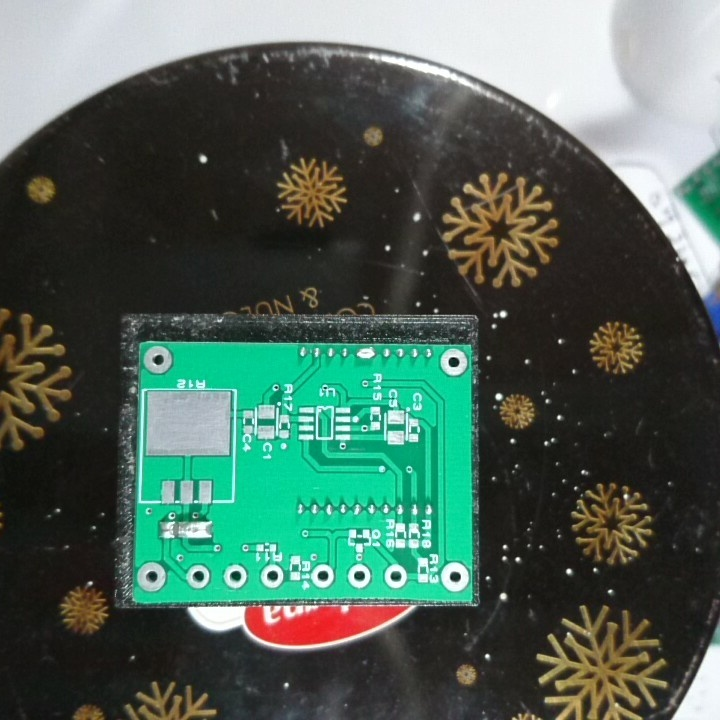F: (135, 561, 168, 596), (439, 560, 471, 596), (142, 344, 176, 376), (438, 345, 470, 378), (221, 563, 251, 592), (309, 560, 336, 591), (258, 562, 286, 591), (345, 563, 374, 591), (185, 563, 211, 590), (383, 563, 409, 590)
P: (174, 519, 216, 541), (354, 345, 377, 362)
